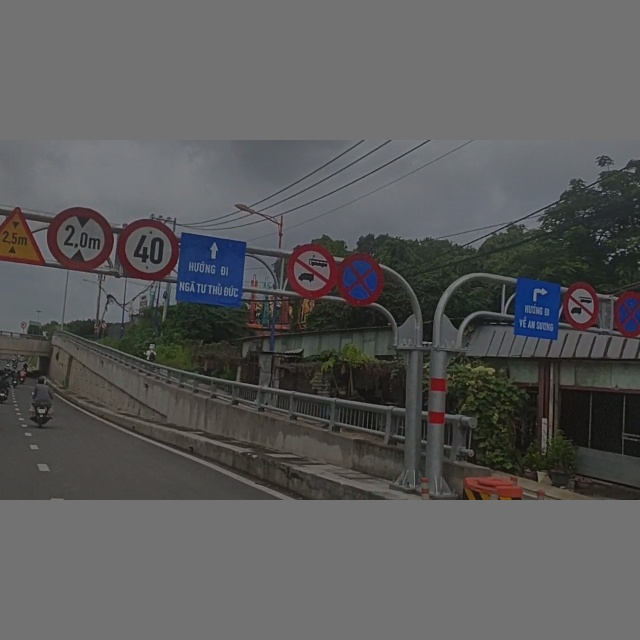P.107: (286, 243, 338, 298), (563, 281, 600, 331)
P.117*: (47, 208, 114, 272)
P.127*40: (119, 218, 178, 281)
P.130: (339, 249, 383, 307), (615, 291, 640, 339)
W.239b*: (1, 206, 45, 267)
